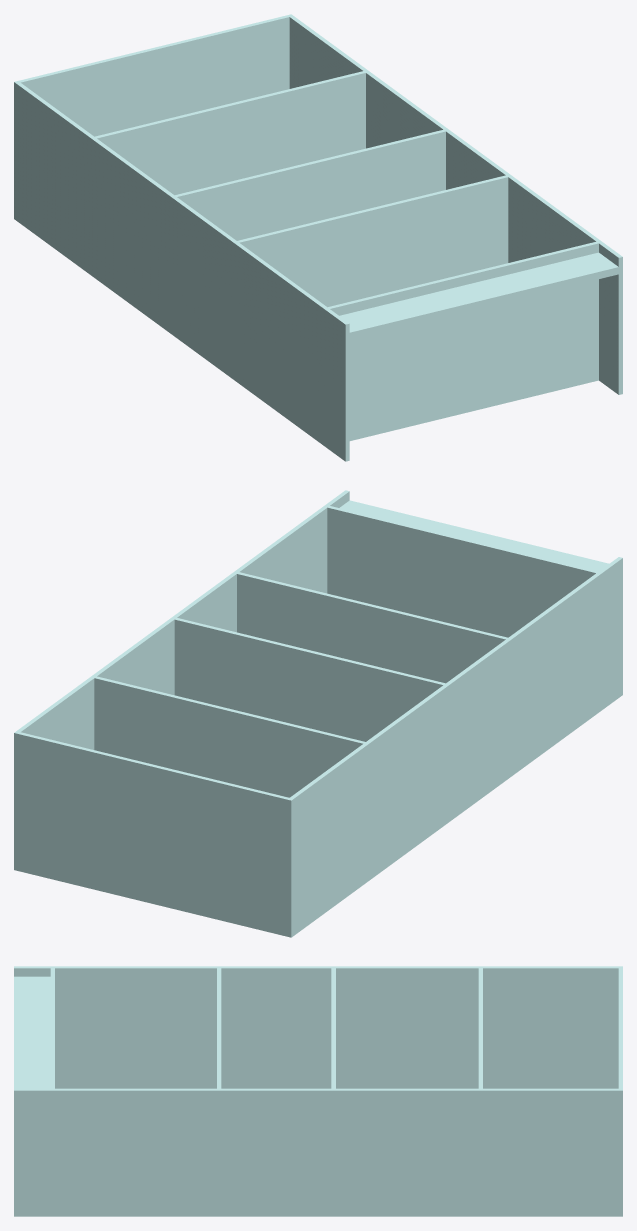
File: Shelf_FL.dae
The picture shows the model from 3 angles, top to bottom: view 1: azimuth 30°, elevation 25°; view 2: azimuth 150°, elevation 25°; view 3: azimuth 270°, elevation 25°; orthographic projection. The views are drawn at different scales.
Visible parts, largest first — view 1: node0; view 2: node0; view 3: node0.
Part boxes in pixels (<box>): node0: <box>14,14,622,461</box>; node0: <box>14,490,622,937</box>; node0: <box>14,966,622,1216</box>.
Size of the model in its own units: 0.796 by 1.65 by 0.376.
